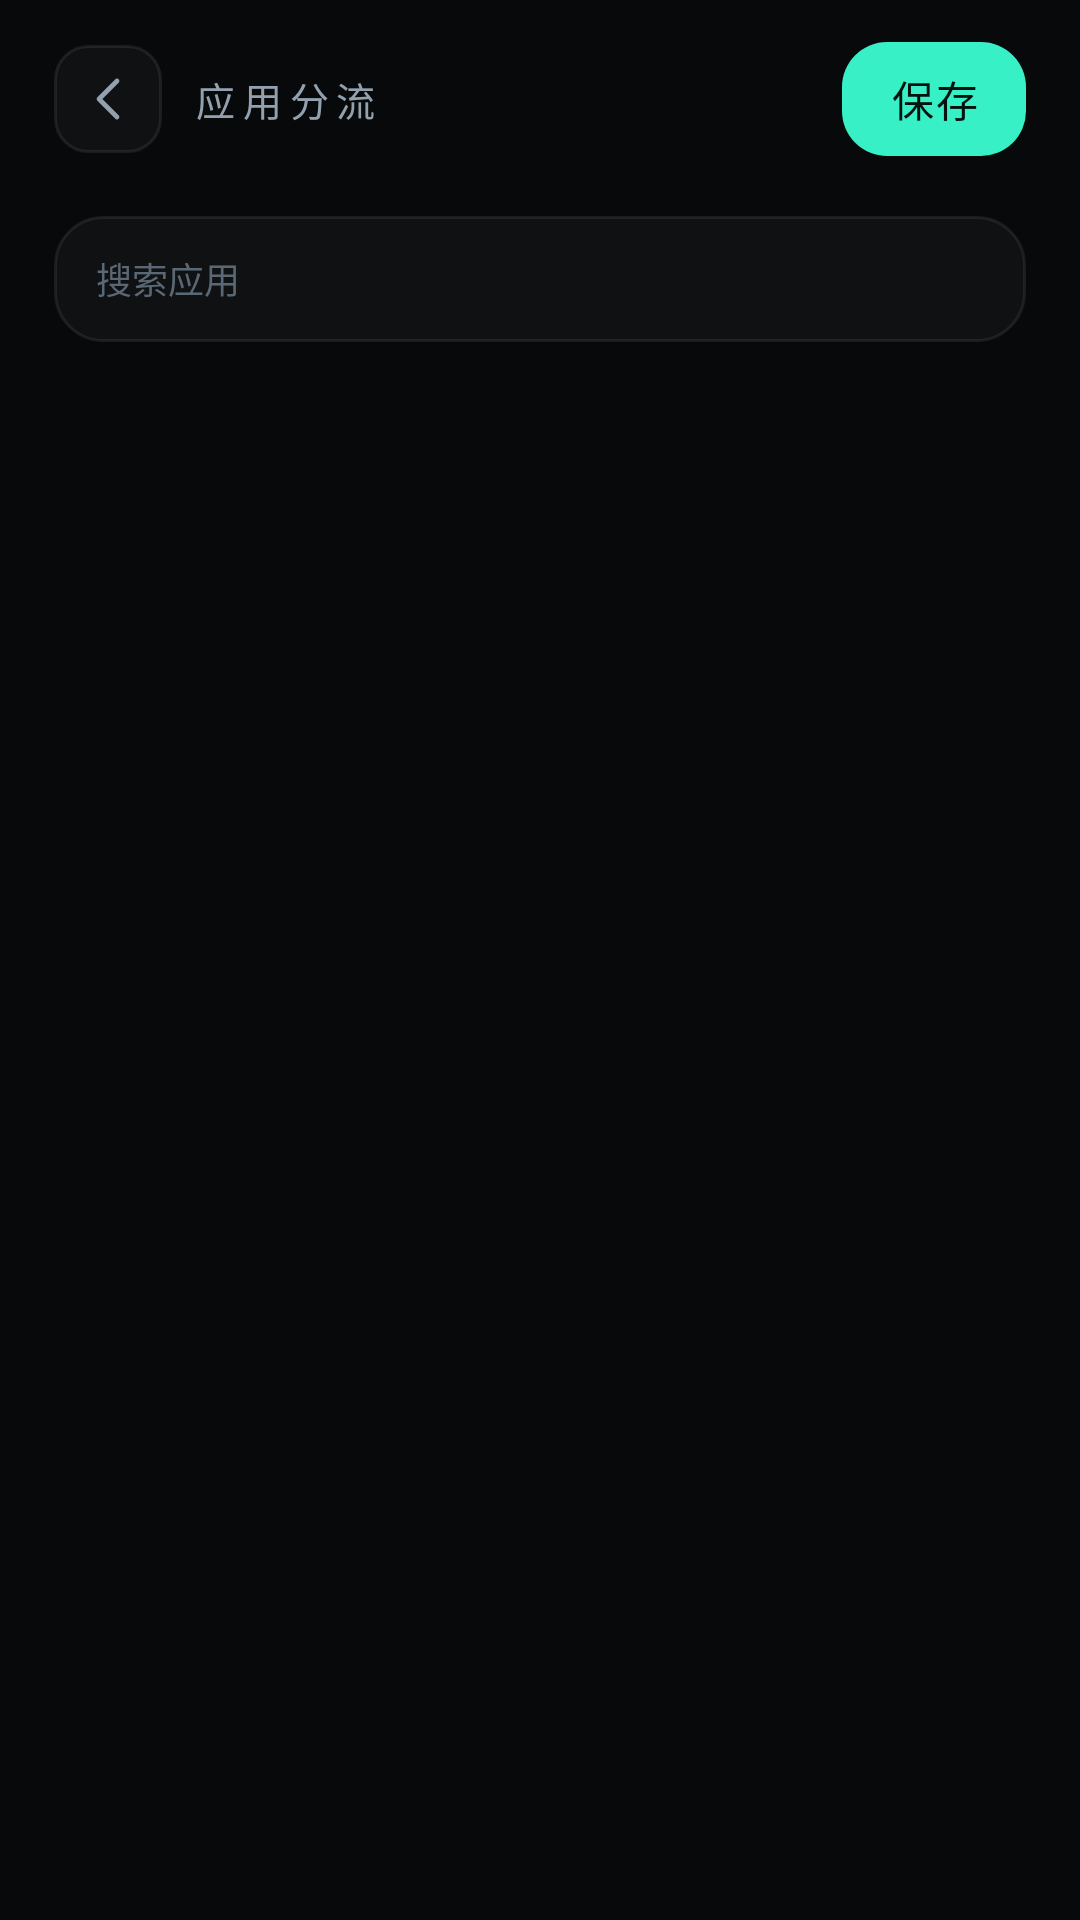

Where icons sit on this 1080px x 1920px app screen, as {"x1": x1, "y1": y1, "x2": x2, "y2": y2}:
返回: {"x1": 56, "y1": 47, "x2": 160, "y2": 151}
